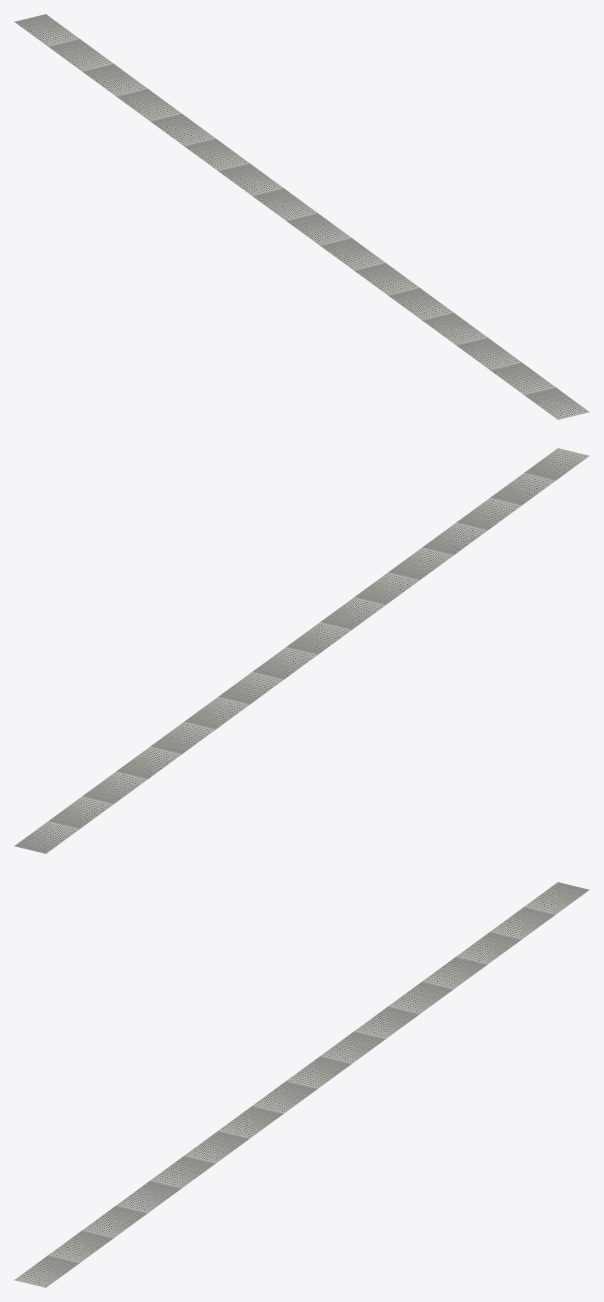
Rendered from JoonaksenLuokka_PalkkirungonKatto.fbx.
3 renders of one model, top to bottom at view 1: azimuth 30°, elevation 25°; view 2: azimuth 150°, elevation 25°; view 3: azimuth 330°, elevation 25°, orthographic.
Visible parts, largest first — view 1: Palkkirunko_katto; view 2: Palkkirunko_katto; view 3: Palkkirunko_katto.
Boxes of the visible parts, x1,y1,x2,y2 form: Palkkirunko_katto: [14, 14, 589, 419]; Palkkirunko_katto: [14, 448, 589, 853]; Palkkirunko_katto: [14, 882, 589, 1287].
Size of the model in its own units: 85 by 0.000407 by 2500.
